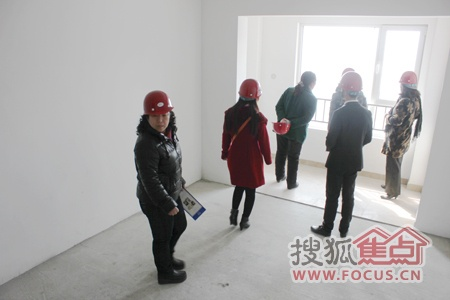none: (300, 69, 317, 89)
red: (141, 89, 173, 131), (338, 70, 364, 101), (237, 77, 262, 104), (398, 71, 418, 93)
